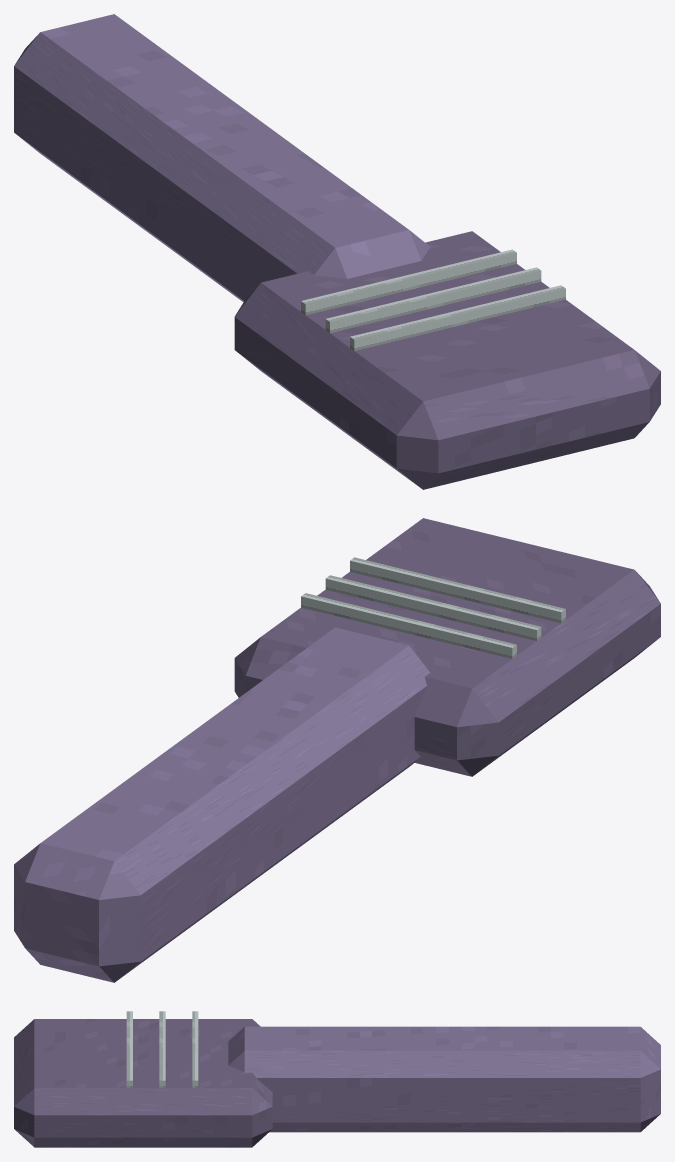
File: razor_shaving.glb
3 views of the same model, one above another, from view 1: azimuth 30°, elevation 25°; view 2: azimuth 150°, elevation 25°; view 3: azimuth 270°, elevation 25° (orthographic). The views are drawn at different scales.
Visible parts, largest first — view 1: block_head, block_soft grip, block_shaving strip 1, block_shaving strip 0, block_shaving strip 2; view 2: block_soft grip, block_head, block_shaving strip 1, block_shaving strip 2, block_shaving strip 0; view 3: block_soft grip, block_head, block_shaving strip 0, block_shaving strip 1, block_shaving strip 2.
Part boxes in pixels (x1,y1,x2,y2): block_head: [234, 231, 660, 489]; block_soft grip: [14, 14, 429, 301]; block_shaving strip 1: [325, 267, 541, 333]; block_shaving strip 0: [301, 249, 516, 315]; block_shaving strip 2: [350, 285, 565, 350]; block_soft grip: [14, 627, 430, 982]; block_head: [234, 518, 660, 776]; block_shaving strip 1: [325, 575, 541, 640]; block_shaving strip 2: [350, 557, 565, 622]; block_shaving strip 0: [301, 593, 516, 658]; block_soft grip: [228, 1026, 660, 1132]; block_head: [14, 1019, 272, 1147]; block_shaving strip 0: [192, 1011, 198, 1087]; block_shaving strip 1: [159, 1011, 165, 1087]; block_shaving strip 2: [126, 1011, 132, 1087].
Size of the model in its own units: 0.05 by 0.022 by 0.158.
1 material, 1 textured.
